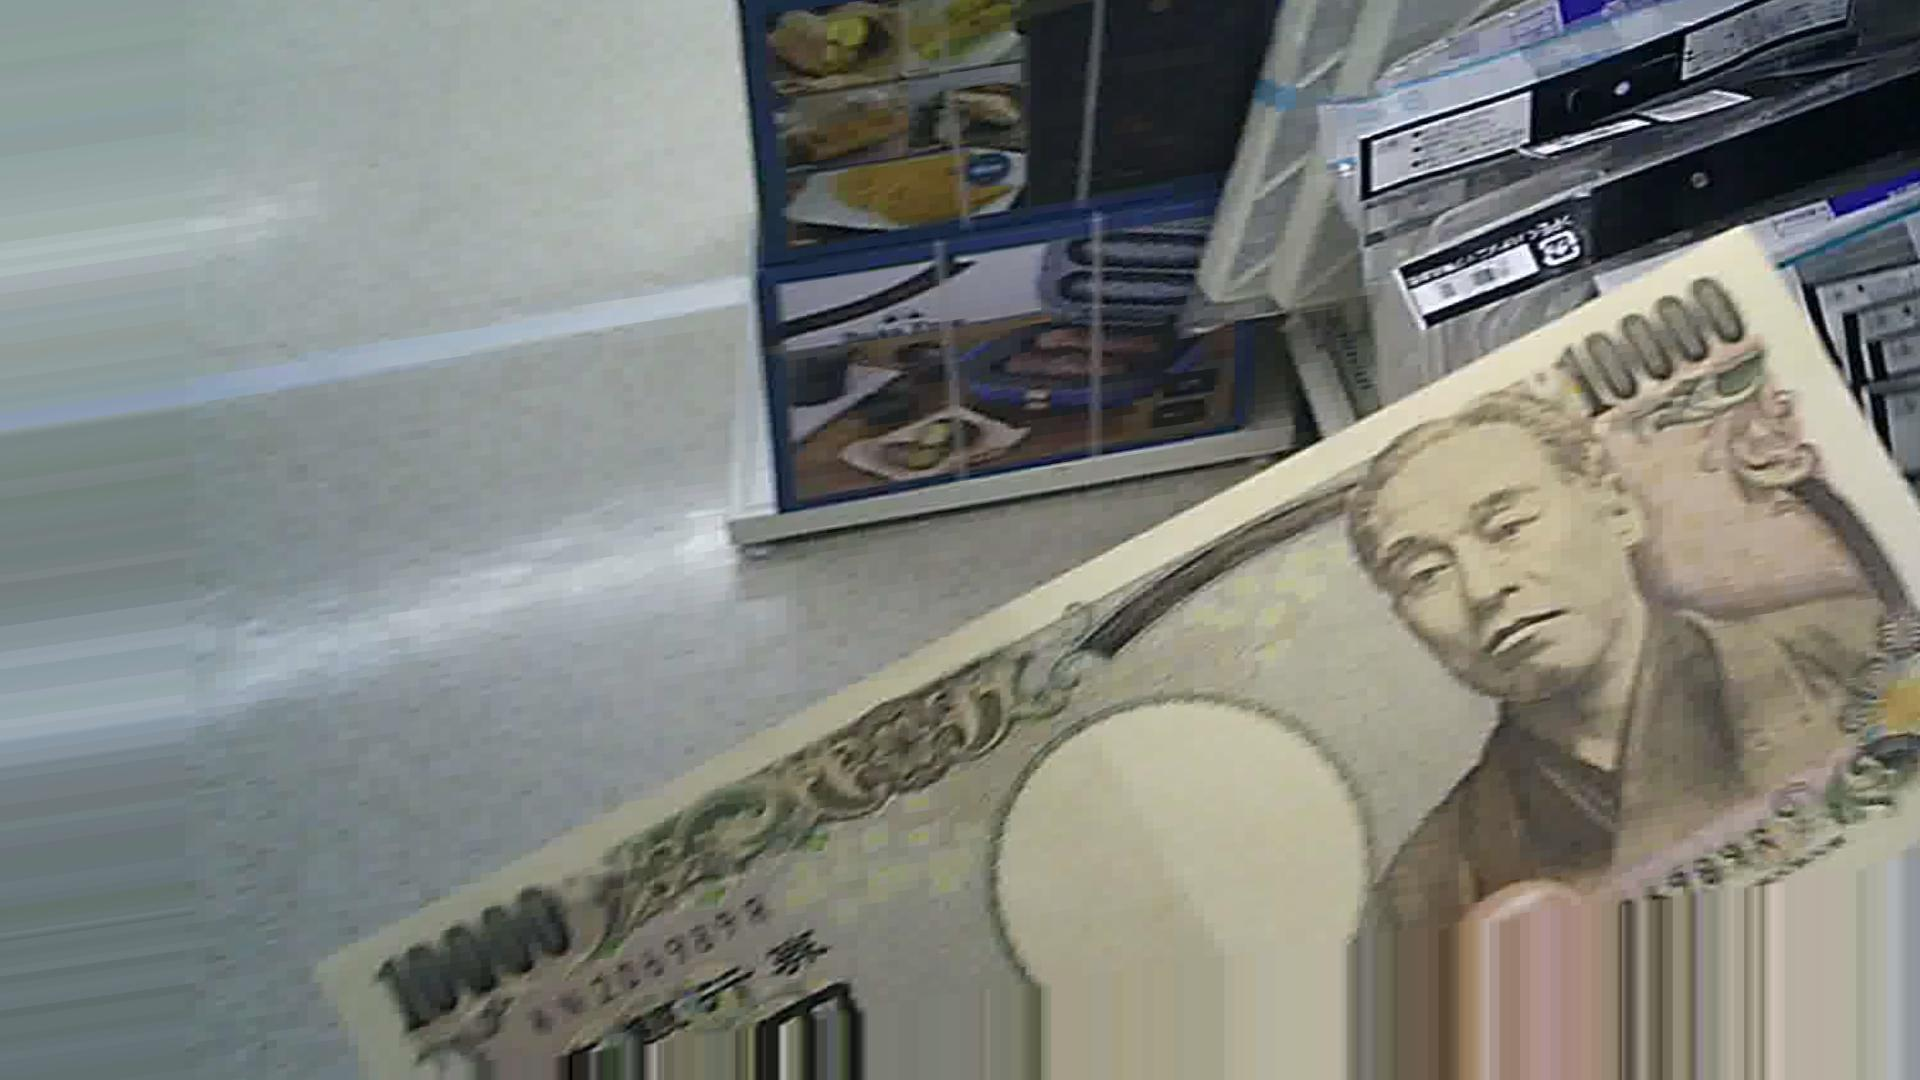10,000 Yen: (324, 220, 1894, 1079)
